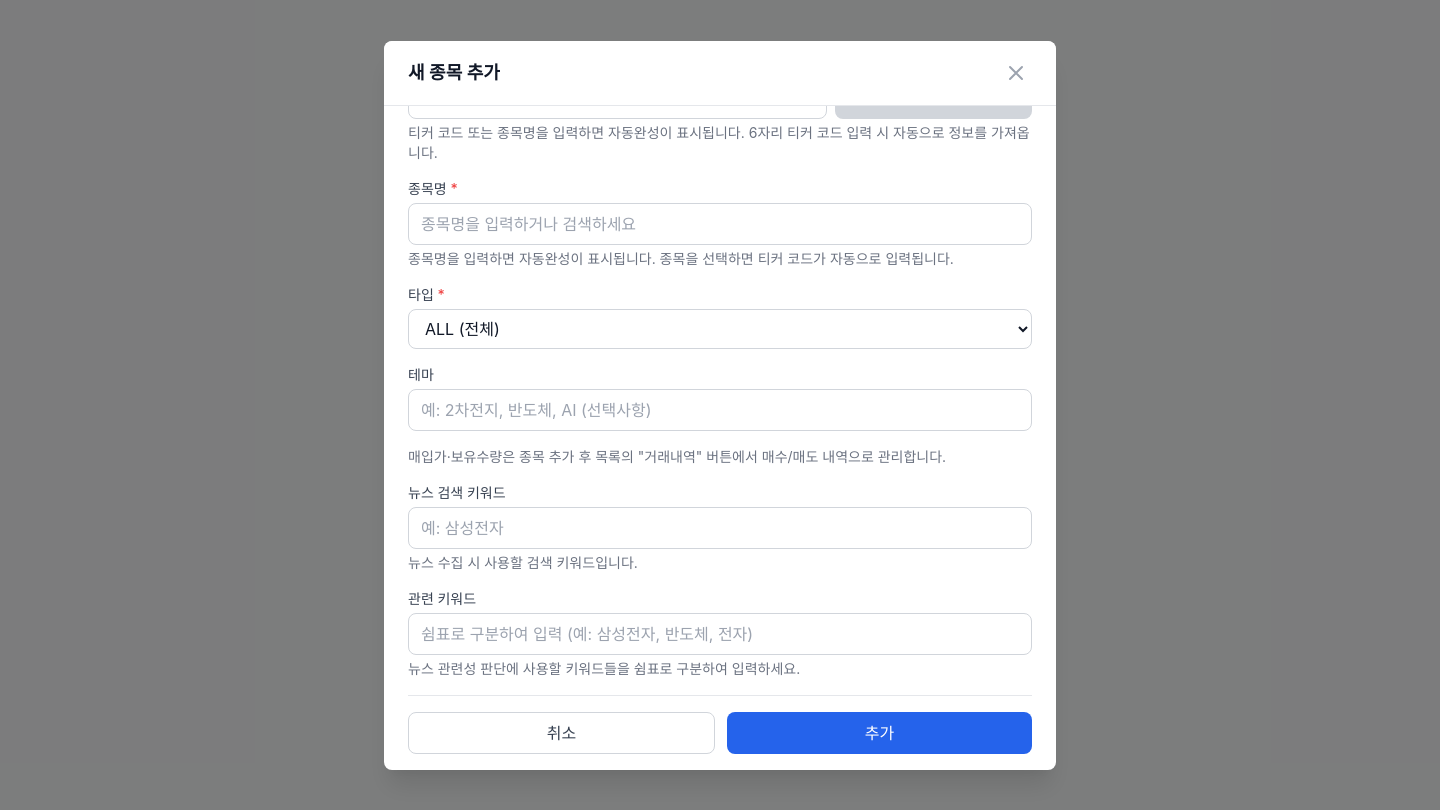
Test case: TickerForm 컴포넌트 › 생성 모드 › 필수 필드 누락 시 검증 에러가 표시된다
(page scrolled)
// 제출 버튼 클릭 (필드 입력 없이)
Click the button "추가".
click(880, 732)  # box [727, 712, 1032, 754]
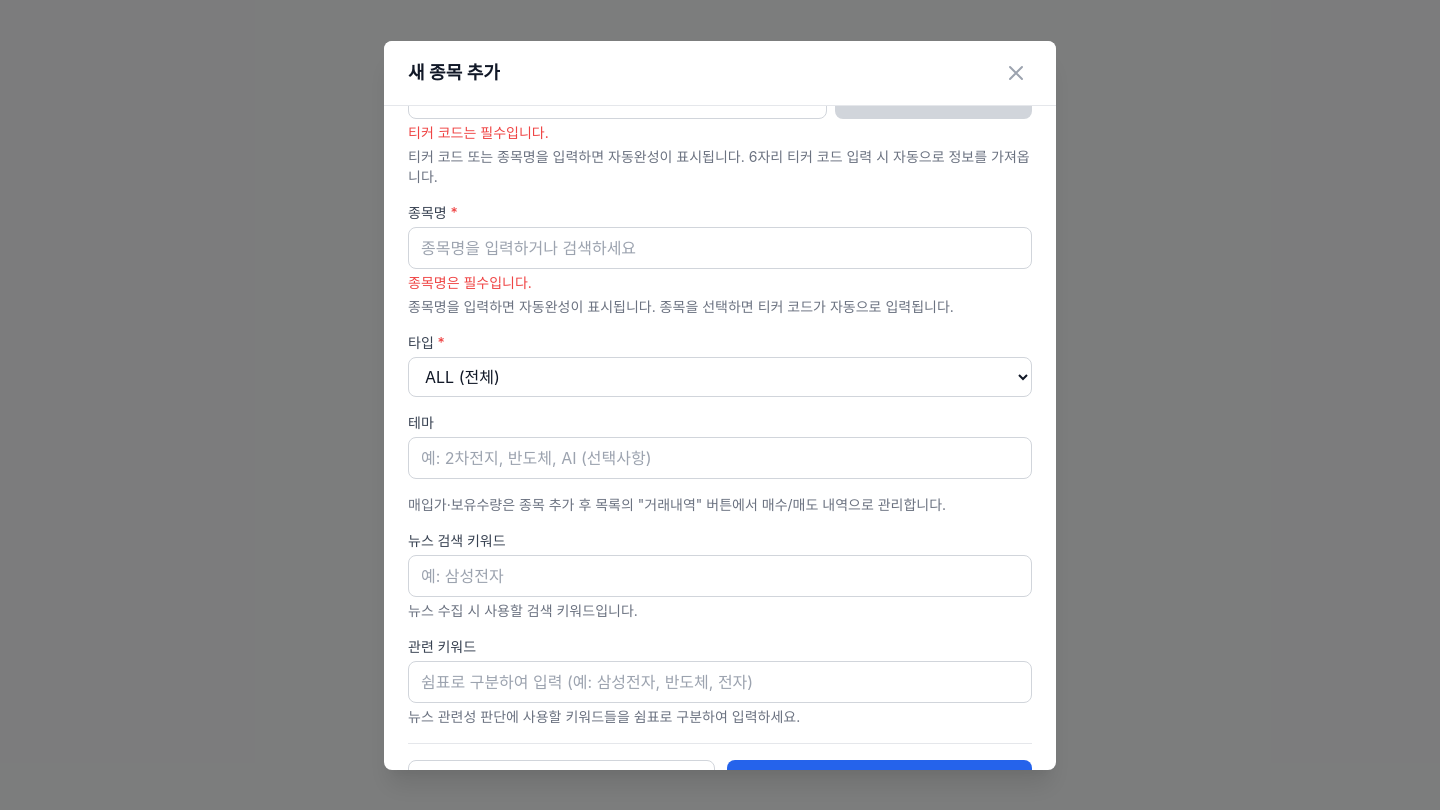
Result: the text "티커 코드는 필수입니다." is shown at [408, 124, 549, 140]
Result: the text "종목명은 필수입니다." is shown at [408, 274, 532, 290]
